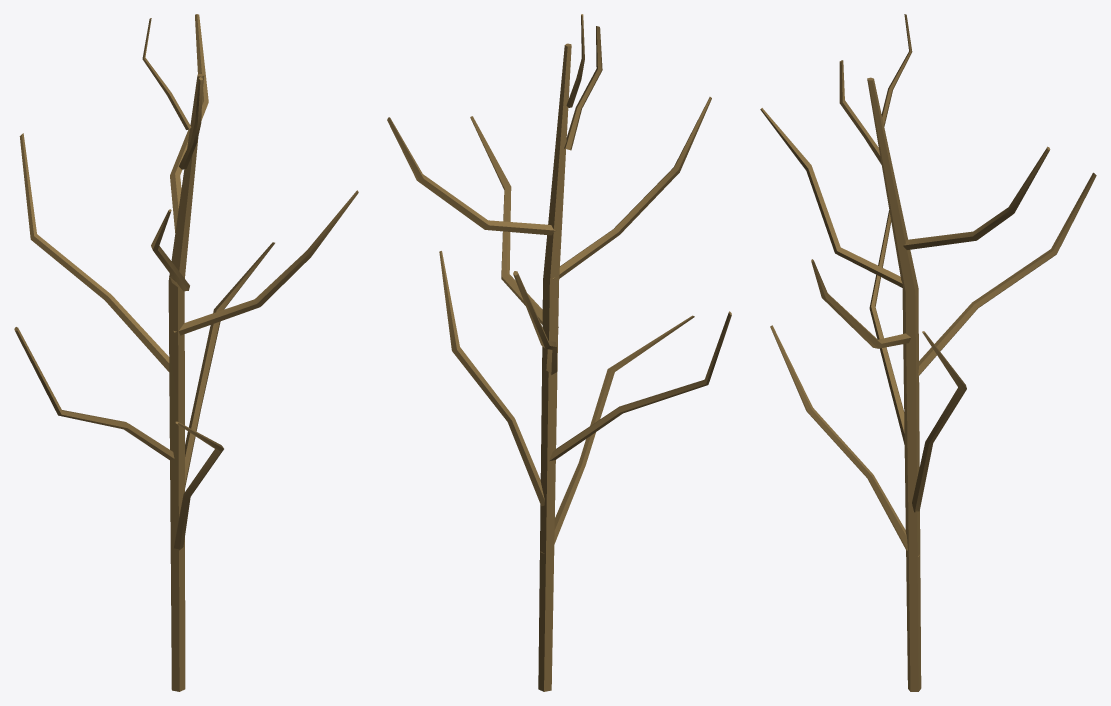
File: DriedBush.fbx
The picture shows the model from 3 angles, left to right: view 1: azimuth 30°, elevation 25°; view 2: azimuth 150°, elevation 25°; view 3: azimuth 270°, elevation 25°; orthographic projection. The views are drawn at different scales.
Parts seen in each view (by area): view 1: polySurface52; view 2: polySurface52; view 3: polySurface52.
Boxes of the visible parts, x1,y1,x2,y2 form: polySurface52: (14, 14, 358, 691); polySurface52: (387, 14, 731, 691); polySurface52: (760, 14, 1096, 691).
Size of the model in its own units: 28.27 by 60.78 by 28.06.
